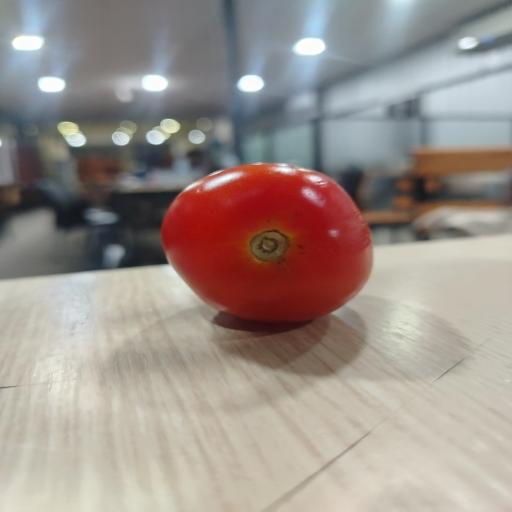overipe: (162, 164, 372, 322)
